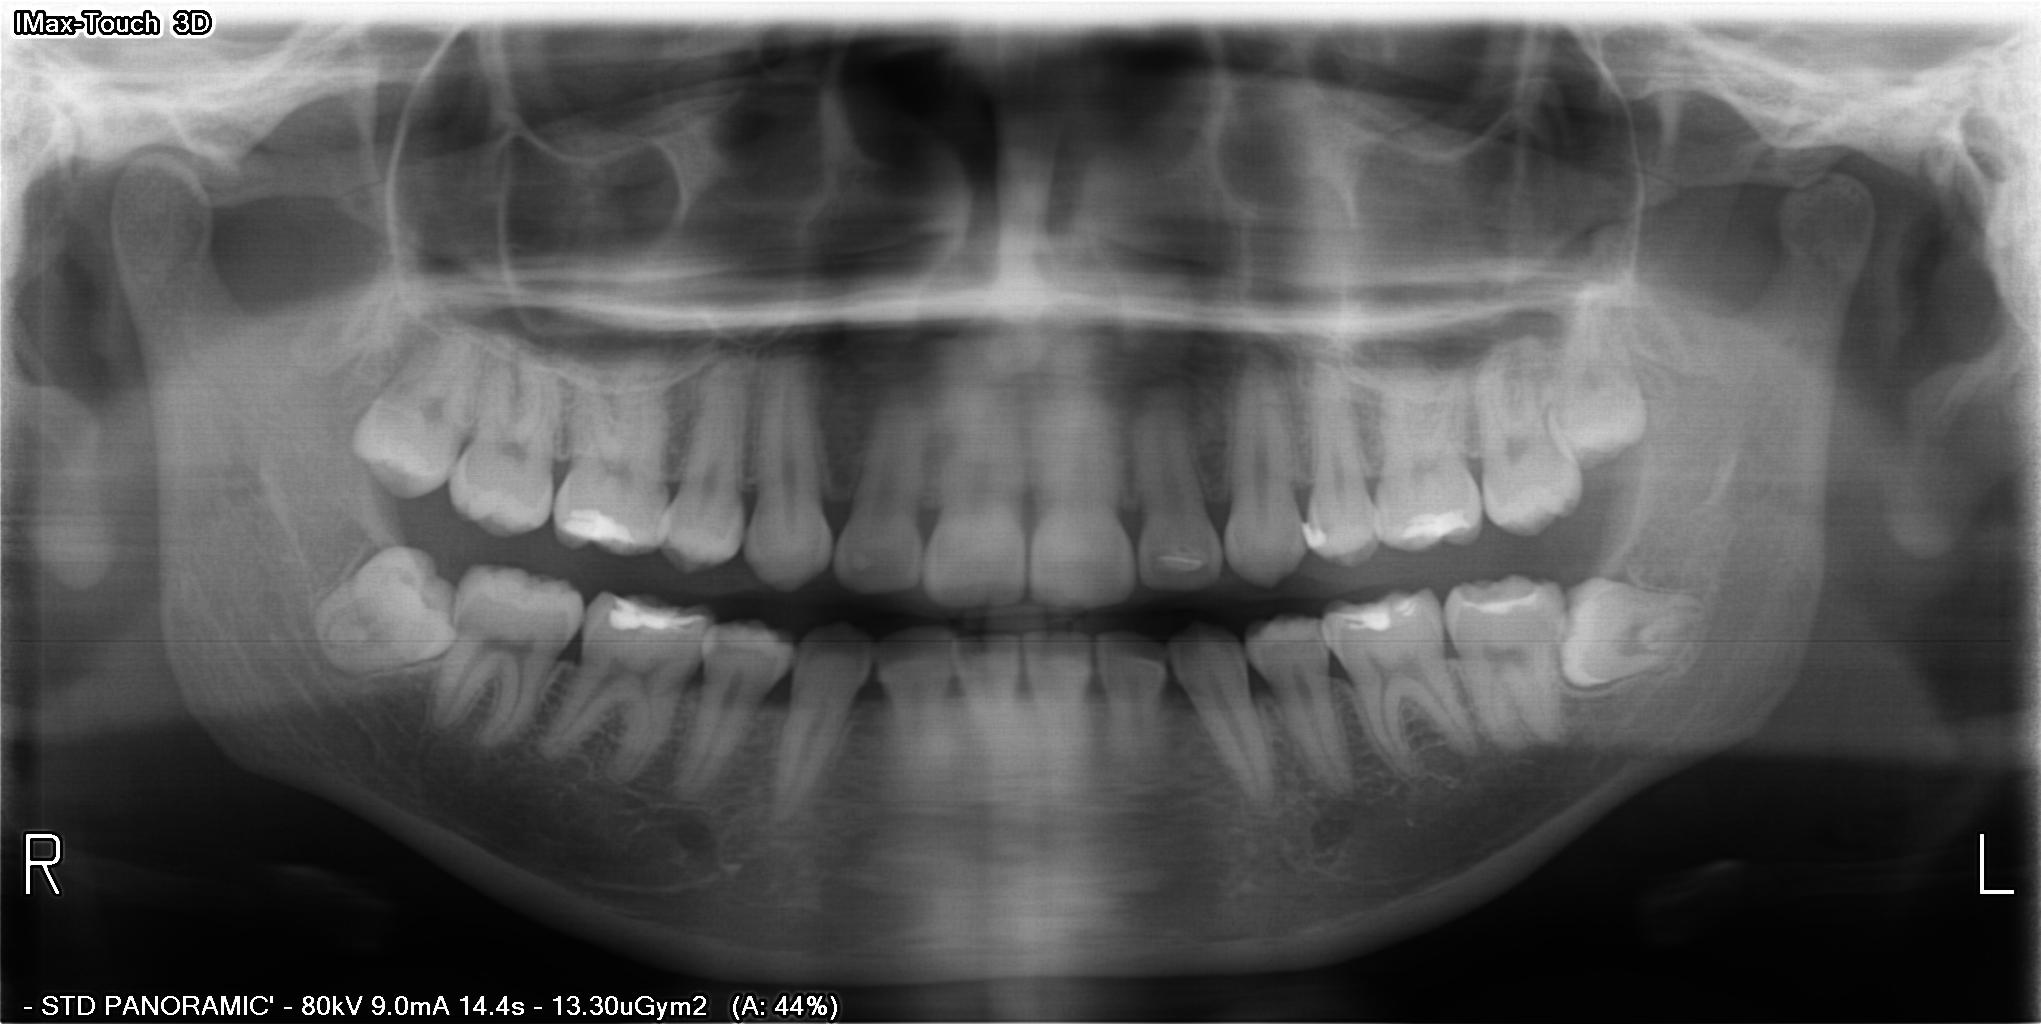Çürük: (599, 585, 713, 639), (559, 496, 645, 556), (1321, 596, 1406, 643), (1392, 505, 1469, 547), (1293, 511, 1346, 559)
